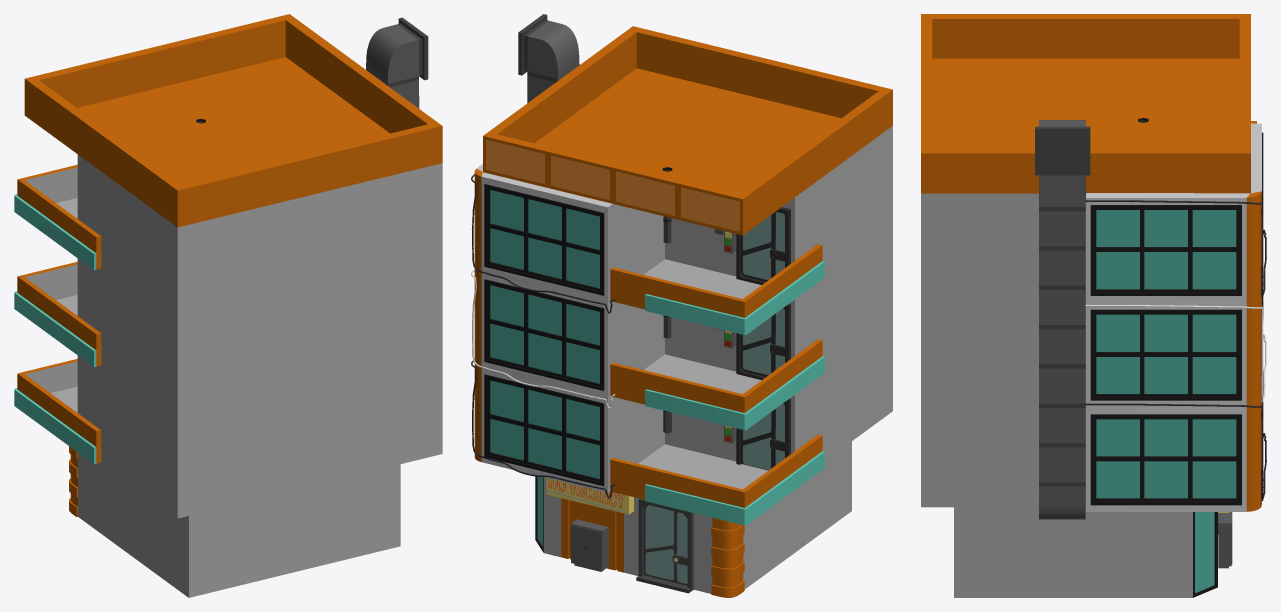
Rendered from Himik_Street_Jonas_Apt.fbx.
The picture shows the model from 3 angles, left to right: view 1: azimuth 30°, elevation 25°; view 2: azimuth 150°, elevation 25°; view 3: azimuth 270°, elevation 25°; orthographic projection. The views are drawn at different scales.
Visible parts, largest first — view 1: MainBody; view 2: MainBody, Main_Door, Door.003, Door.001, Door.002, Box, Electric_Thingy.003, Cube.013, Cube.011, Cube.014; view 3: MainBody, Cube.014, Box, Cube.011, Cube.013.
Boxes of the visible parts, x1,y1,x2,y2 form: MainBody: [14, 14, 442, 597]; MainBody: [474, 14, 892, 597]; Main_Door: [636, 498, 693, 593]; Door.003: [736, 207, 790, 284]; Door.001: [736, 303, 790, 380]; Door.002: [736, 398, 790, 470]; Box: [571, 519, 608, 571]; Electric_Thingy.003: [546, 478, 633, 514]; Cube.013: [471, 269, 615, 408]; Cube.011: [471, 174, 615, 313]; Cube.014: [471, 360, 615, 498]; MainBody: [921, 14, 1263, 597]; Cube.014: [1085, 403, 1266, 500]; Box: [1218, 512, 1232, 568]; Cube.011: [1085, 200, 1266, 297]; Cube.013: [1085, 304, 1266, 402].
Bounding box in the file's own units: 1759 × 1573 × 2525.
17 materials, 16 textured.
